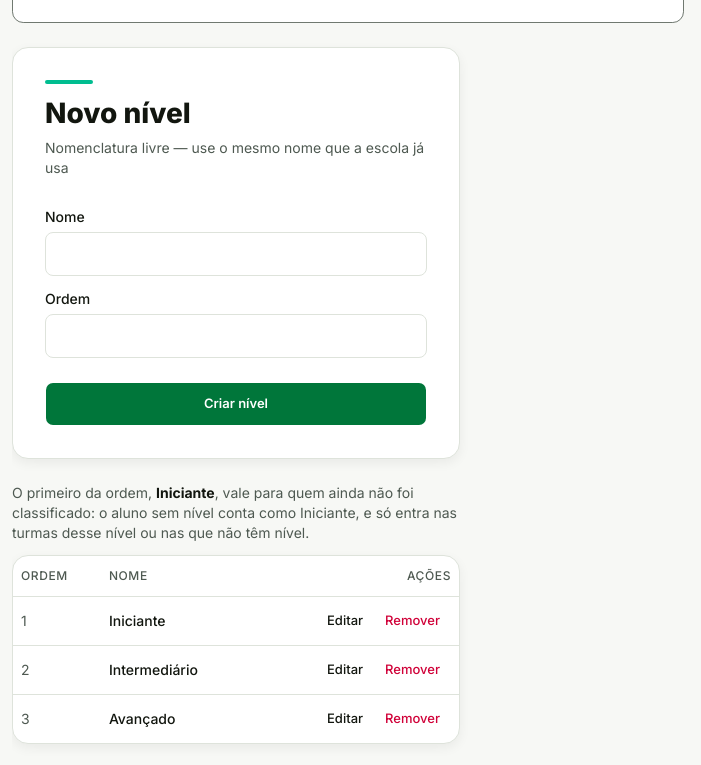
Test: LevelsManager — SPEC-075/D8 › AC-018: editar nome e ordem manda PATCH com os DOIS campos e redesenha a lista
The width and height of the screenshot is (701, 765).
(page scrolled)
Click the 1st button "Editar" at (345, 620), box 316,604 -> 374,636
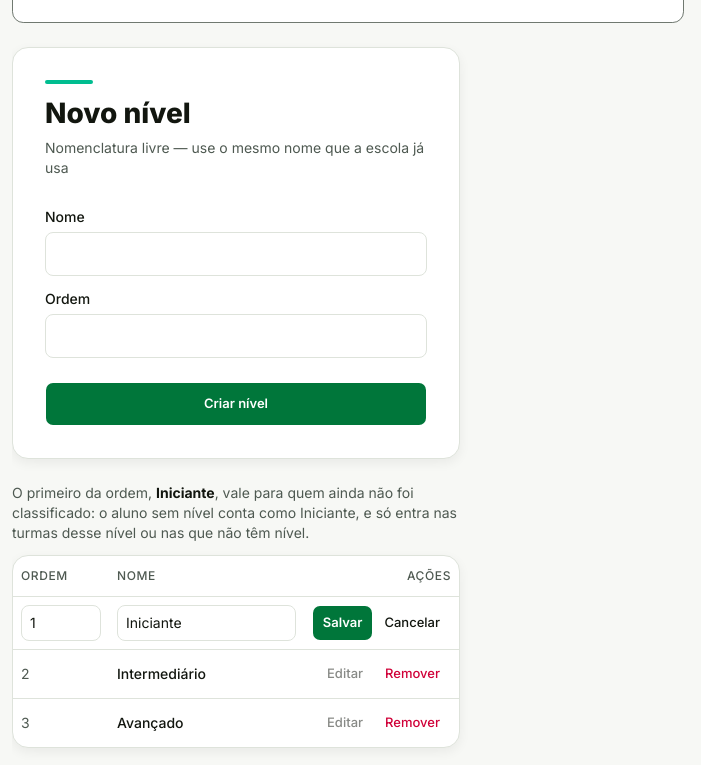
Replace the text in the field named "Nome de Iniciante" with "Bronze" at (206, 622), box 117,604 -> 296,640
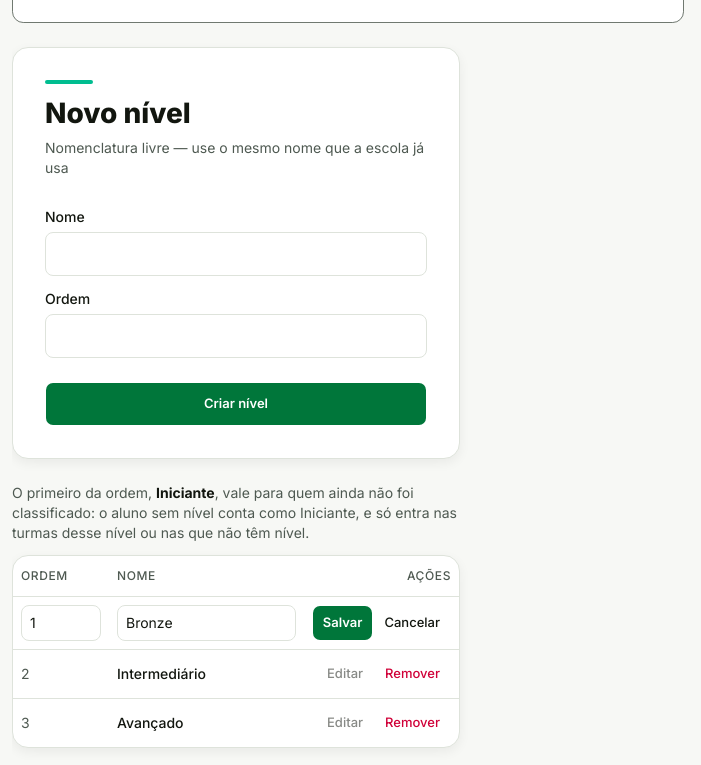
Replace the text in the number field named "Ordem de Iniciante" with "5" at (61, 622), box 21,604 -> 101,640
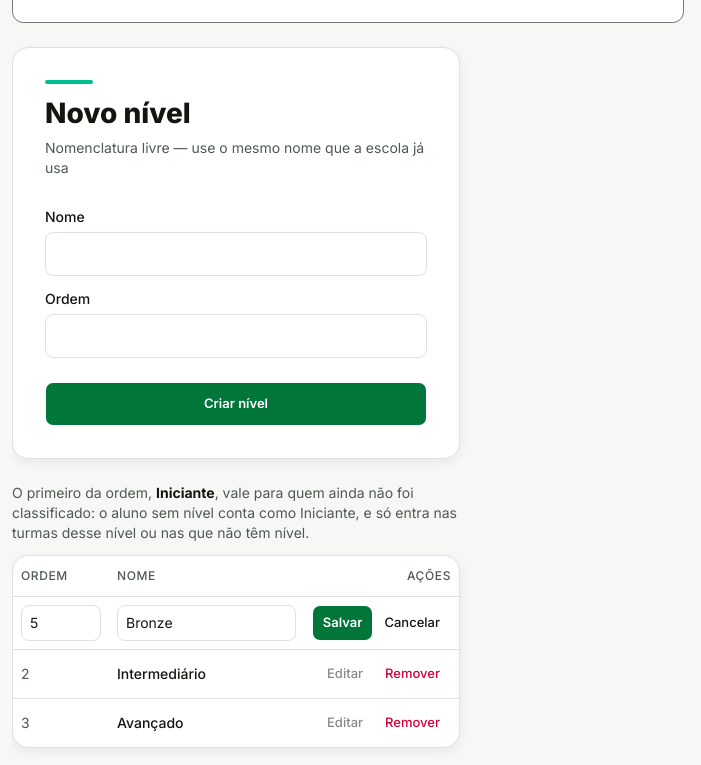
Click the button "Salvar" at (343, 622), box 312,604 -> 373,640
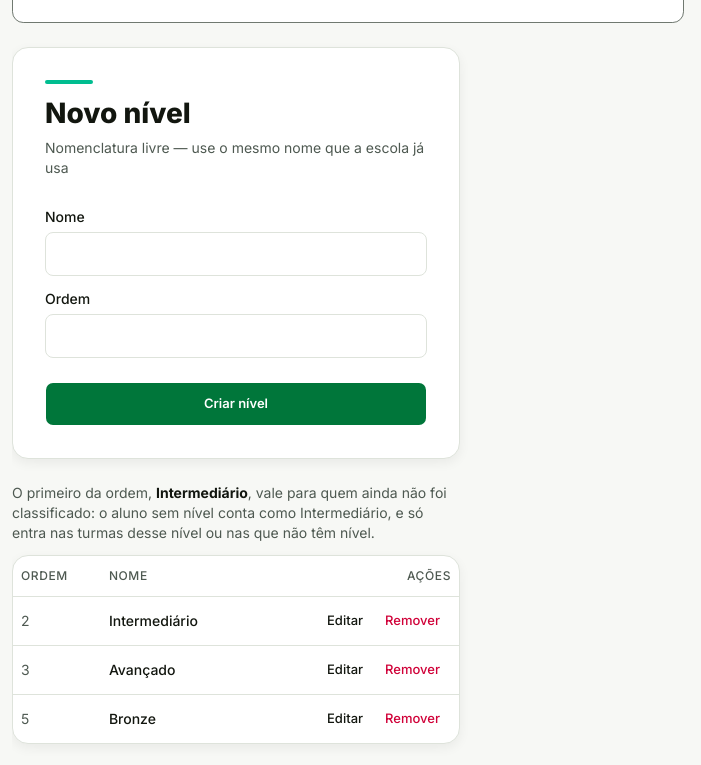
Now the text "Bronze" is shown, box 101,694 -> 248,742
Now the text "O primeiro da ordem, Intermediário," is shown, box 12,483 -> 460,543
